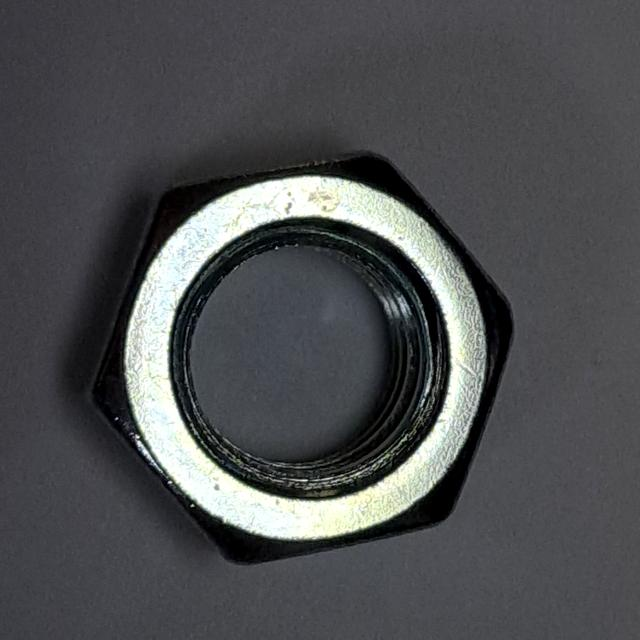Excellent: (72, 138, 525, 581)
